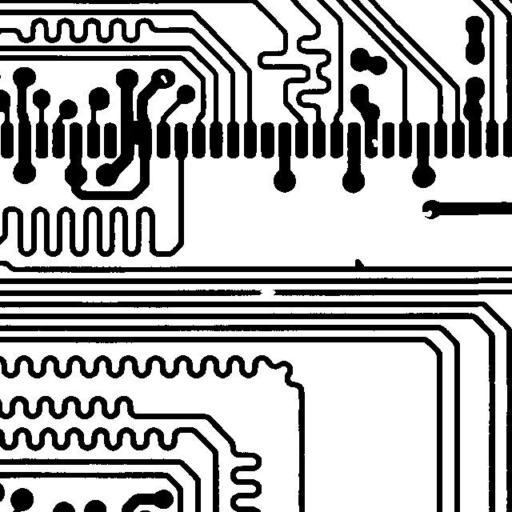mousebite: (406, 202, 439, 224), (364, 131, 386, 154)
open: (252, 281, 283, 303)
pin-hole: (153, 67, 174, 90)
short: (123, 113, 151, 152)
spur: (347, 251, 371, 277)
